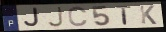5: (91, 5, 112, 27)
C: (68, 6, 90, 27)
J: (46, 6, 65, 28), (23, 7, 41, 28)
K: (138, 5, 158, 25)
T: (115, 5, 133, 26)
